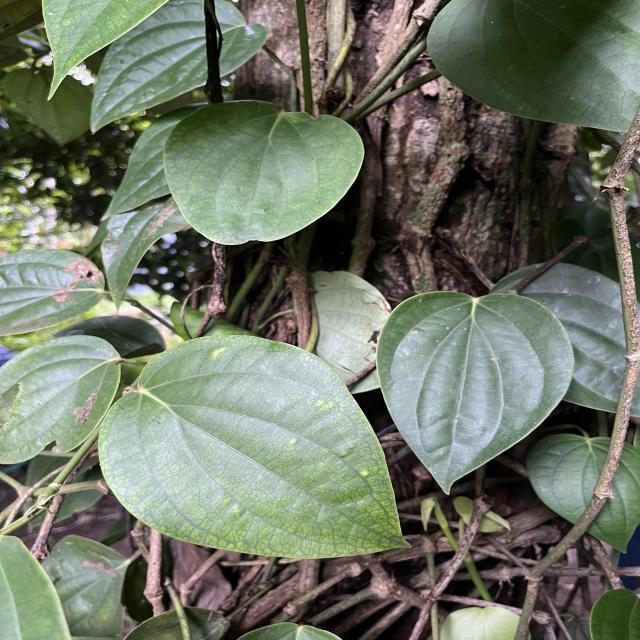Piper nigrum: (97, 333, 416, 560), (374, 289, 576, 497), (162, 98, 366, 246)
